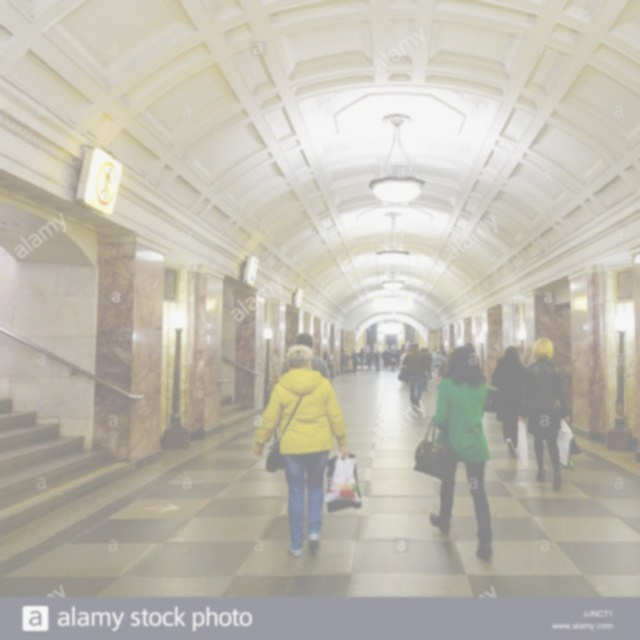pessoa: (251, 342, 364, 560), (412, 342, 495, 563), (512, 337, 582, 492), (489, 344, 530, 458), (280, 332, 330, 383), (400, 341, 430, 412), (430, 348, 446, 388), (437, 348, 454, 382), (420, 347, 432, 392), (397, 347, 410, 382), (514, 343, 528, 367), (348, 348, 360, 374), (372, 348, 383, 374), (322, 348, 334, 371), (364, 348, 374, 371), (356, 346, 366, 369), (396, 343, 406, 366), (388, 348, 397, 372), (341, 349, 350, 372), (424, 347, 434, 367), (404, 336, 415, 353), (392, 347, 400, 369), (382, 348, 390, 369), (429, 346, 437, 359), (439, 344, 447, 357), (366, 324, 372, 336), (384, 342, 396, 348), (466, 341, 474, 348), (365, 344, 370, 354), (404, 380, 410, 388), (433, 346, 437, 352)
